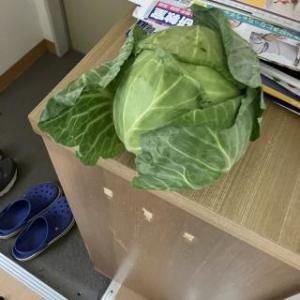cabbage: (36, 5, 268, 194)
